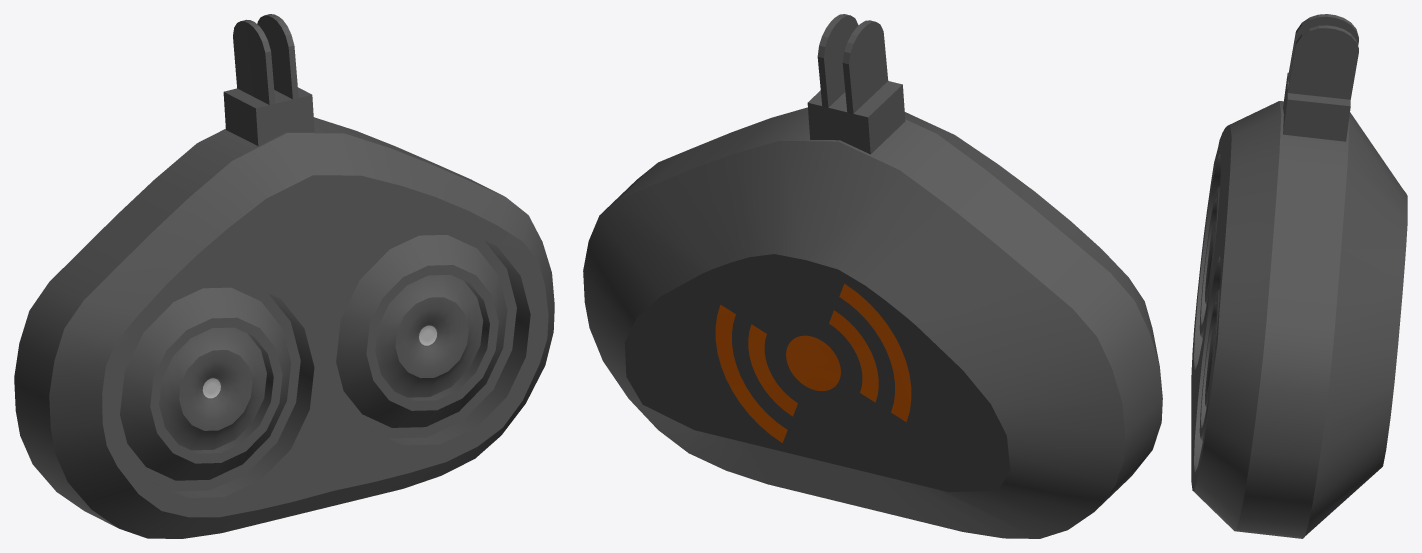
File: loud-bicycle-mini-horn.glb
The picture shows the model from 3 angles, left to right: view 1: azimuth 30°, elevation 25°; view 2: azimuth 150°, elevation 25°; view 3: azimuth 270°, elevation 25°; orthographic projection. The views are drawn at different scales.
Visible parts, largest first — view 1: loud-bicycle-mini-horn; view 2: loud-bicycle-mini-horn, path4996; view 3: loud-bicycle-mini-horn.
Boxes of the visible parts, <box> form: loud-bicycle-mini-horn: <box>14,14,554,538</box>; loud-bicycle-mini-horn: <box>583,14,1162,538</box>; path4996: <box>715,283,911,442</box>; loud-bicycle-mini-horn: <box>1191,14,1407,538</box>.
Bounding box in the file's own units: 0.1809 × 0.159 × 0.0691.
Materials: 1 (1 with a texture image).
